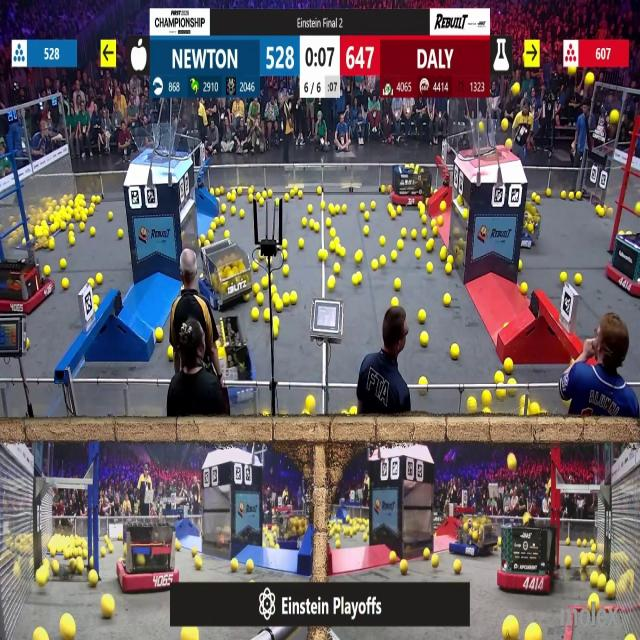ball_airborne: (509, 454, 518, 470), (587, 72, 595, 86), (610, 110, 618, 124), (514, 85, 521, 96), (502, 118, 508, 130), (524, 514, 530, 526), (505, 139, 511, 148), (517, 112, 523, 121), (480, 121, 485, 131)
ball_ground: (102, 596, 115, 619), (526, 626, 540, 640), (37, 570, 47, 585), (604, 584, 614, 599), (90, 570, 99, 586), (181, 628, 193, 640), (467, 397, 476, 412), (503, 358, 512, 372), (399, 560, 407, 575), (34, 630, 46, 640), (307, 395, 315, 409), (590, 572, 598, 586), (494, 372, 504, 383), (421, 333, 428, 348), (246, 560, 254, 573), (326, 277, 334, 290), (484, 391, 492, 404), (497, 388, 506, 399), (194, 556, 201, 570), (452, 345, 459, 359), (454, 560, 461, 574), (264, 310, 272, 322), (419, 310, 426, 323), (232, 559, 239, 572), (155, 328, 162, 341), (290, 291, 297, 303), (394, 278, 401, 290), (445, 293, 452, 305), (521, 282, 528, 294), (355, 250, 362, 262), (353, 274, 360, 286), (426, 240, 433, 252), (54, 562, 60, 576), (76, 561, 83, 573), (338, 246, 346, 256), (318, 250, 326, 260), (262, 278, 270, 288), (168, 347, 174, 360), (446, 265, 453, 276), (61, 260, 68, 271), (252, 309, 258, 321), (574, 274, 580, 286), (283, 266, 289, 278), (431, 555, 437, 567), (390, 552, 396, 564), (284, 292, 290, 304), (273, 326, 279, 338), (442, 248, 448, 260), (579, 557, 587, 566), (507, 377, 515, 386), (419, 377, 426, 387), (276, 303, 283, 313), (423, 550, 430, 560), (564, 557, 571, 567), (328, 242, 335, 252), (69, 237, 76, 247), (596, 206, 603, 216), (253, 283, 260, 293), (589, 555, 596, 565), (97, 274, 103, 285), (257, 293, 263, 304), (442, 202, 448, 213), (61, 222, 69, 230), (395, 207, 403, 215), (349, 408, 356, 417), (94, 295, 101, 304), (427, 264, 433, 274), (392, 296, 398, 306), (560, 273, 566, 283), (44, 267, 50, 277), (63, 279, 69, 289), (363, 225, 369, 235), (335, 265, 341, 275), (48, 240, 54, 250), (391, 250, 397, 260), (397, 240, 403, 250), (90, 558, 96, 568), (329, 229, 335, 239), (90, 278, 96, 288), (303, 217, 309, 227), (390, 208, 396, 218), (589, 600, 594, 612), (336, 205, 342, 215), (49, 222, 55, 232), (272, 292, 278, 302), (537, 196, 544, 204), (412, 231, 418, 240), (400, 230, 406, 239), (416, 249, 422, 258), (369, 202, 375, 211), (308, 205, 314, 214), (219, 215, 225, 224), (282, 240, 288, 249), (91, 226, 97, 235), (422, 230, 428, 239), (420, 206, 426, 215), (342, 205, 348, 214), (274, 317, 280, 326), (439, 216, 445, 225), (362, 533, 368, 542), (75, 213, 81, 222), (636, 203, 640, 216), (381, 237, 386, 247), (298, 239, 303, 249), (371, 261, 376, 271), (381, 255, 386, 265), (209, 232, 214, 242), (99, 548, 104, 558), (329, 205, 334, 215), (69, 223, 76, 230), (448, 255, 454, 263), (271, 285, 277, 293), (568, 191, 574, 199), (252, 264, 258, 272), (248, 193, 254, 201), (325, 218, 331, 226), (220, 205, 226, 213), (484, 409, 492, 415), (592, 593, 598, 601), (226, 192, 232, 200), (82, 550, 88, 558), (66, 213, 72, 221), (283, 251, 288, 260), (359, 203, 364, 212), (432, 226, 437, 235), (219, 186, 224, 195), (232, 192, 237, 201), (596, 599, 600, 610), (430, 218, 436, 225), (320, 203, 326, 210), (284, 193, 290, 200), (80, 215, 86, 222), (316, 187, 322, 194), (120, 228, 124, 238), (315, 222, 320, 230), (108, 212, 113, 220), (90, 207, 95, 215), (259, 199, 264, 207), (575, 190, 580, 198), (364, 212, 369, 220), (561, 190, 566, 198), (211, 222, 216, 230), (337, 540, 342, 548), (269, 189, 274, 197), (297, 190, 302, 198), (422, 216, 427, 224), (276, 200, 281, 208), (93, 194, 98, 202), (498, 536, 502, 546), (532, 192, 537, 200), (108, 544, 113, 552), (201, 235, 206, 243), (576, 538, 581, 546), (215, 187, 220, 195), (517, 263, 521, 272), (176, 541, 180, 550), (248, 578, 254, 584), (305, 411, 311, 417), (628, 635, 635, 640), (232, 208, 237, 215), (381, 185, 386, 192), (224, 232, 228, 240), (241, 210, 245, 218), (546, 188, 550, 196), (97, 197, 101, 205), (275, 542, 280, 548), (80, 223, 84, 230), (192, 546, 196, 553), (255, 192, 259, 199), (27, 340, 30, 348)
goal: (465, 126, 520, 160), (131, 129, 188, 161)
robot_blue: (208, 320, 259, 405), (196, 244, 252, 313), (450, 514, 494, 556), (517, 204, 542, 249), (276, 514, 308, 548)
robot_red: (500, 516, 560, 596), (117, 518, 177, 592), (1, 246, 55, 315), (607, 230, 640, 296), (392, 162, 432, 205)
